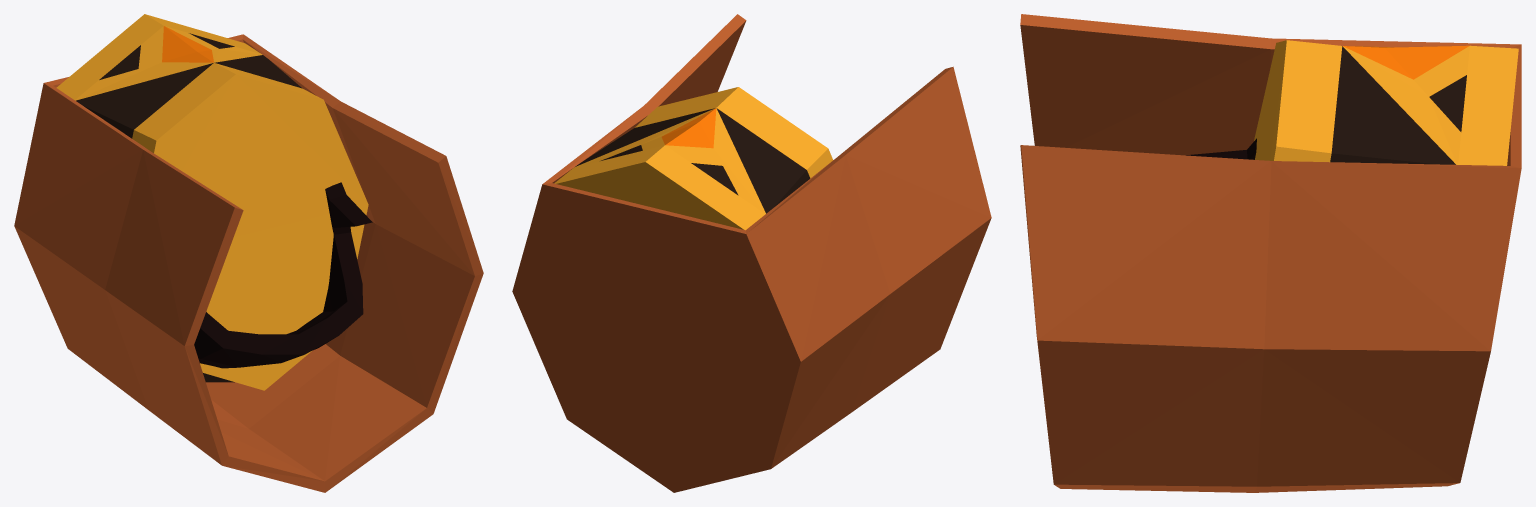
The model's file is Hat 06.FBX.
The picture shows the model from 3 angles, left to right: view 1: azimuth 30°, elevation 25°; view 2: azimuth 150°, elevation 25°; view 3: azimuth 270°, elevation 25°; orthographic projection. The views are drawn at different scales.
Parts seen in each view (by area): view 1: Hat 06, Hair Headgear; view 2: Hat 06; view 3: Hat 06.
Part boxes in pixels (box(x1,y1,x2,y2)): Hat 06: box(14, 14, 483, 492); Hair Headgear: box(194, 182, 372, 368); Hat 06: box(512, 14, 991, 492); Hat 06: box(1020, 14, 1521, 492).
Size of the model in its own units: 40.9 by 46.61 by 46.76.
